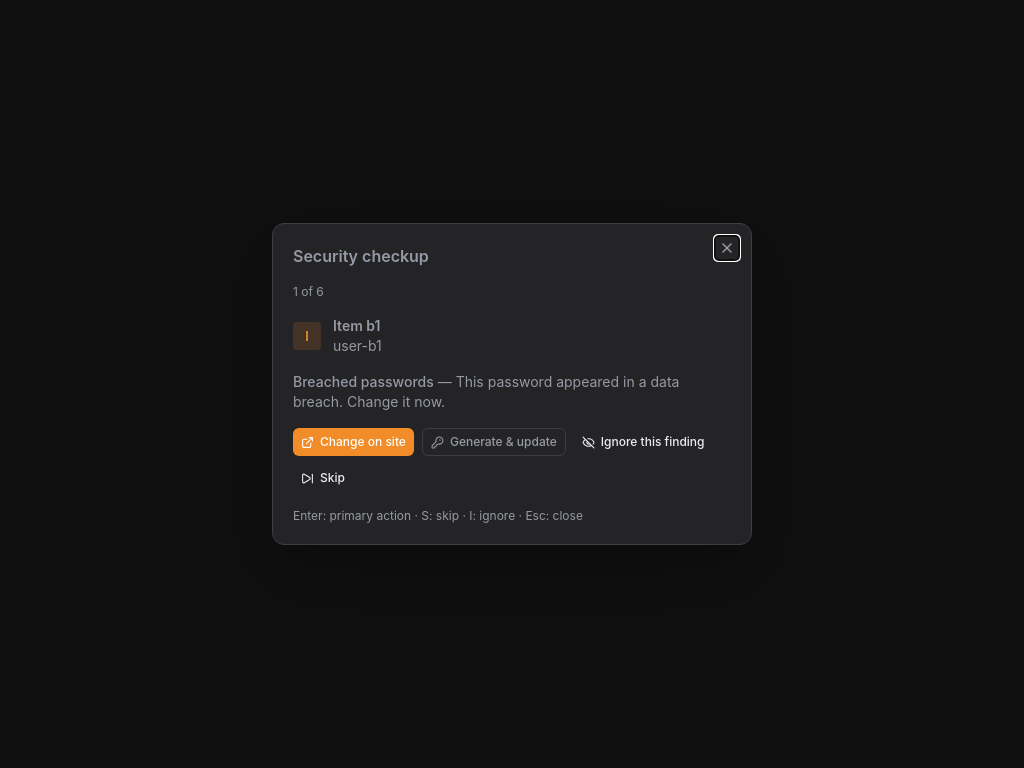
it: SecurityCheckup modal › shows the score delta after an update recomputes the score
Expected: the element with test id "checkup-step" is shown, [293,284,731,524]
Click the button with test id "checkup-ignore". click: {"x": 643, "y": 442}
box: [574,428,712,456]
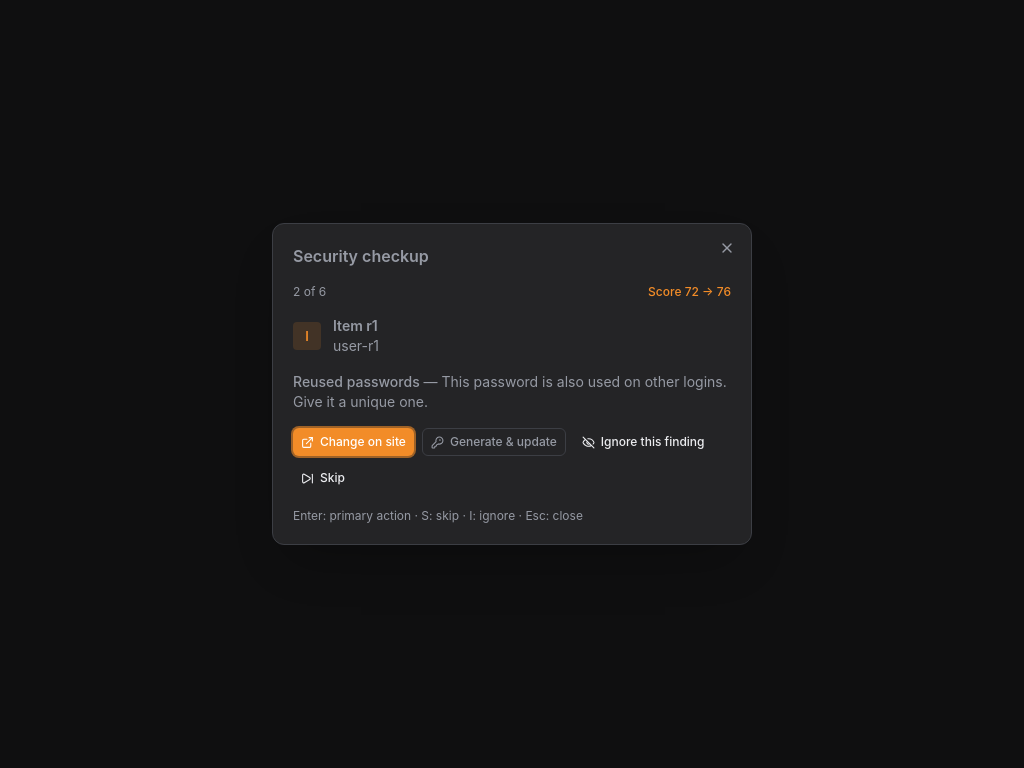
Expected: the text "Score 72 → 76" is shown, [648,284,731,300]
Expected: the text with test id "checkup-score-delta" shows "72 → 76", [648,284,731,299]
